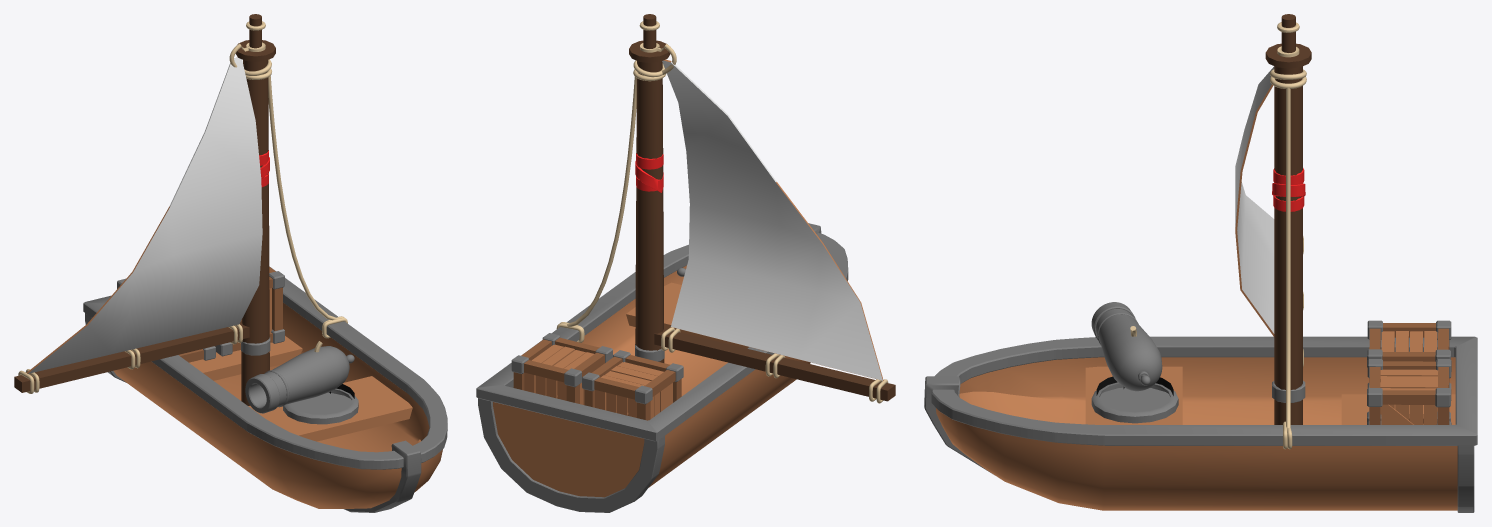
Rendered from Ship_small.fbx.
3 views of the same model, side by side, from view 1: azimuth 30°, elevation 25°; view 2: azimuth 150°, elevation 25°; view 3: azimuth 270°, elevation 25° (orthographic). The views are drawn at different scales.
Parts seen in each view (by area): view 1: Bandiera.001; view 2: Bandiera.001; view 3: Bandiera.001.
Boxes of the visible parts, box(x1,y1,x2,y2) form: Bandiera.001: box(14, 14, 447, 512); Bandiera.001: box(476, 14, 895, 512); Bandiera.001: box(924, 14, 1477, 512).
Bounding box in the file's own units: 222 × 214 × 173.
